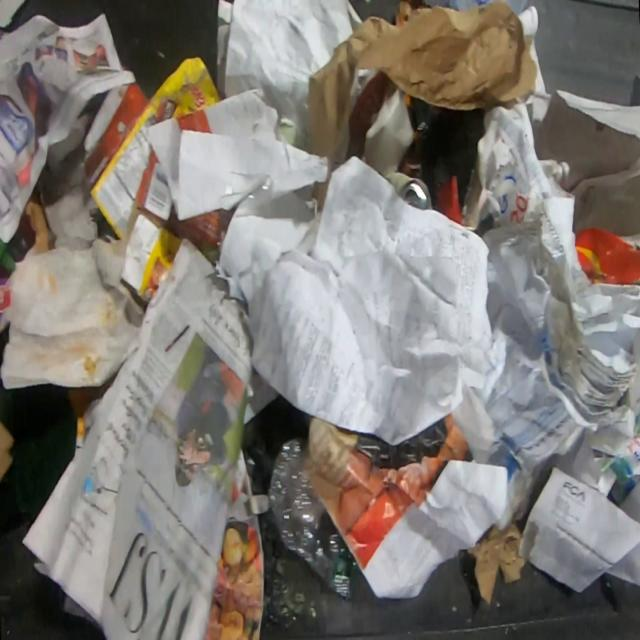cardboard: (80, 53, 239, 308), (467, 509, 530, 602), (0, 419, 14, 481)
metal: (386, 172, 432, 209)
rigid_plastic: (269, 438, 366, 598)
